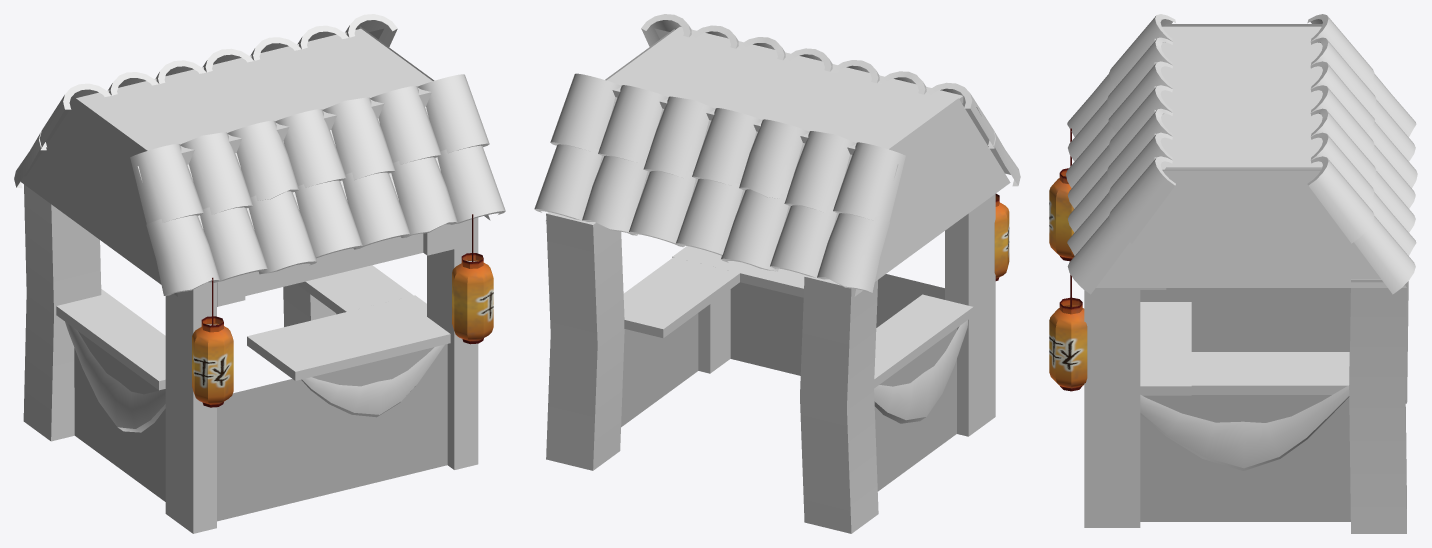
The model's file is SM_Store_01.fbx.
3 views of the same model, side by side, from view 1: azimuth 30°, elevation 25°; view 2: azimuth 150°, elevation 25°; view 3: azimuth 270°, elevation 25° (orthographic). The views are drawn at different scales.
Visible parts, largest first — view 1: SM_Store_01; view 2: SM_Store_01; view 3: SM_Store_01.
Boxes of the visible parts, x1,y1,x2,y2 form: SM_Store_01: [14, 14, 505, 533]; SM_Store_01: [534, 14, 1020, 533]; SM_Store_01: [1049, 14, 1417, 533].
Size of the model in its own units: 289 by 291 by 263.
